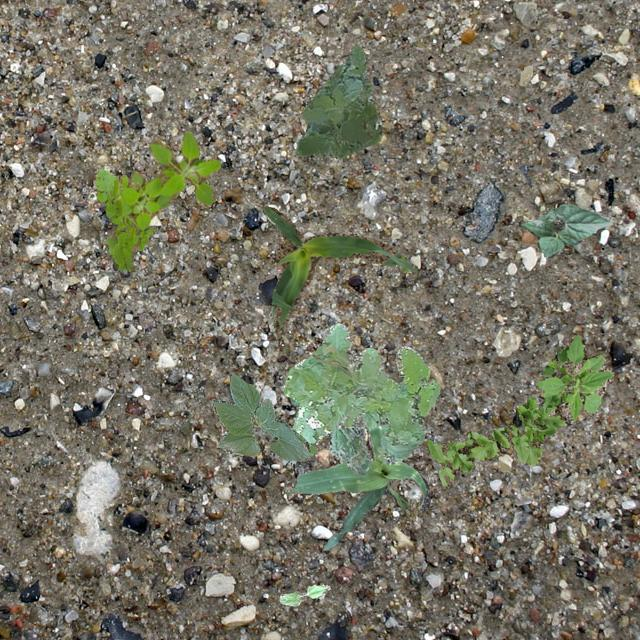crop: (262, 204, 416, 334), (291, 422, 428, 550), (210, 372, 314, 459), (520, 204, 612, 258), (278, 584, 328, 604)
weed: (282, 322, 440, 464), (426, 394, 566, 486), (118, 130, 220, 230), (296, 44, 380, 158), (534, 333, 612, 422), (94, 168, 152, 270), (282, 409, 369, 474), (290, 396, 300, 406)
